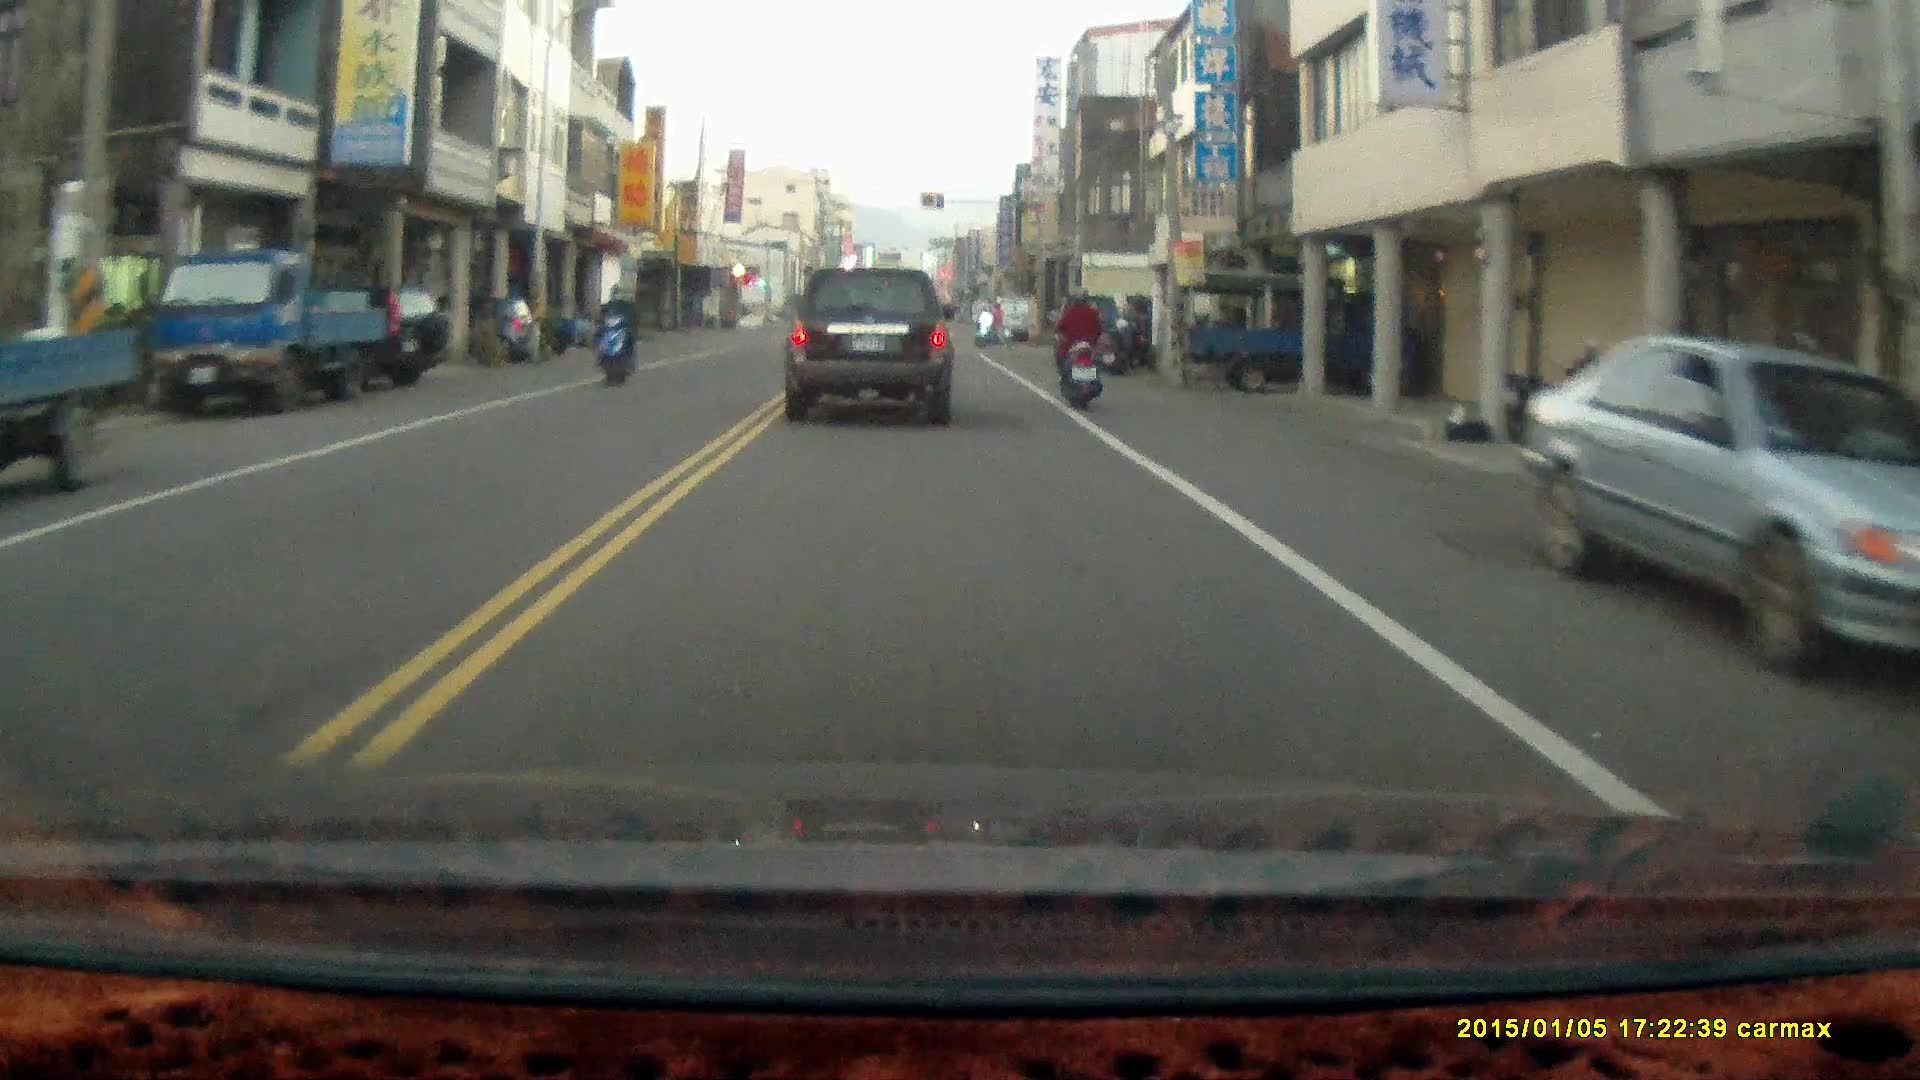rider: (1054, 281, 1105, 408), (591, 278, 639, 385), (974, 294, 1013, 343)
vehicle: (1515, 333, 1920, 693), (1, 234, 166, 499), (142, 249, 386, 413), (1180, 265, 1439, 393), (782, 266, 958, 431), (299, 287, 454, 388)
